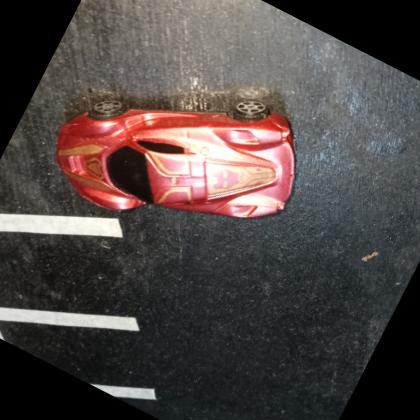Car: (56, 98, 297, 218)
